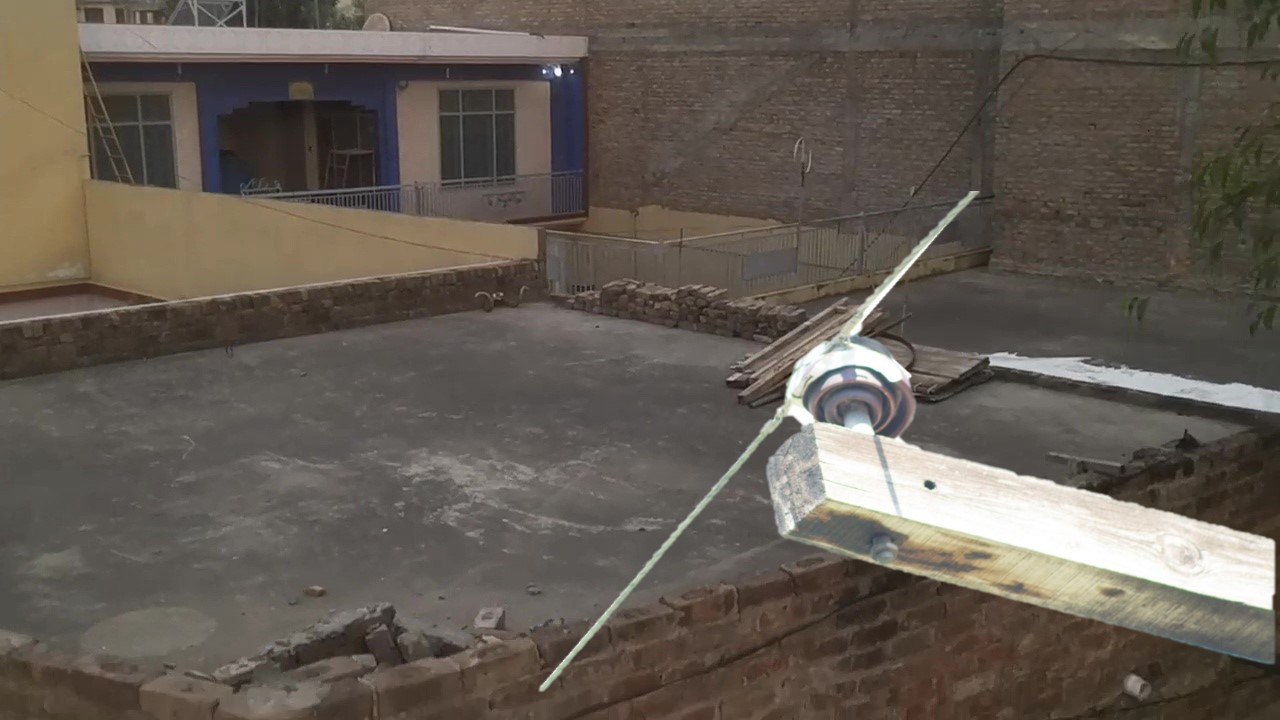defect_pin: (781, 334, 924, 442)
